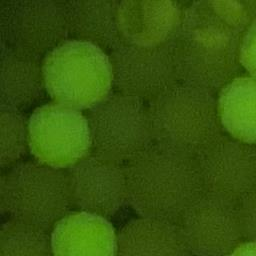negative: (130, 148, 203, 224), (150, 86, 220, 156), (1, 163, 72, 224), (89, 99, 156, 160), (199, 138, 256, 207), (69, 154, 130, 217), (113, 44, 176, 103), (0, 40, 47, 111), (112, 0, 180, 47), (1, 1, 64, 50), (183, 200, 239, 255), (185, 0, 245, 51), (178, 32, 236, 84), (117, 216, 183, 256), (55, 0, 117, 41), (0, 215, 49, 256), (0, 106, 24, 170)
positive: (42, 39, 115, 109), (26, 106, 92, 169), (48, 210, 120, 256), (215, 73, 256, 146), (236, 22, 256, 79), (227, 236, 256, 256)
